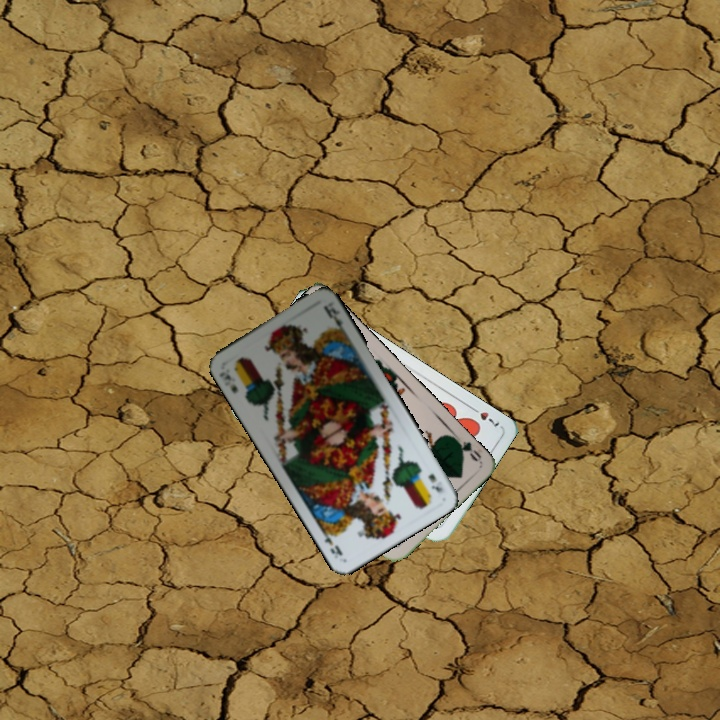EK: (220, 370, 241, 396), (424, 470, 445, 495)
GO: (450, 433, 484, 464)
H7: (466, 402, 502, 429)
